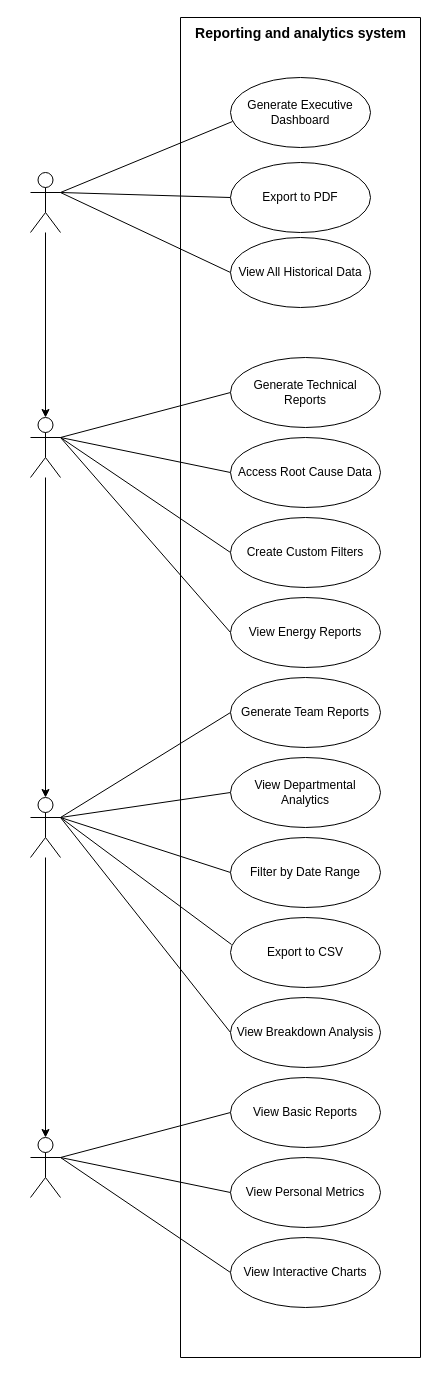
This 438x1375 diagram has some shape labels left out. The shapes that lost their labels are listed below. From the top down, each one's box as (x1, y1, x2, y2) in pixels, then its label:
(30, 172, 60, 232): Admin
(30, 416, 60, 478): Engineer
(30, 796, 60, 858): Manager
(30, 1136, 60, 1198): Technician
